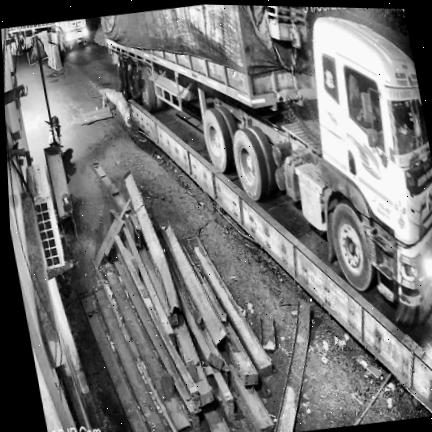tyre: (332, 201, 373, 291), (233, 129, 268, 201), (203, 109, 234, 172), (250, 126, 276, 194), (140, 65, 157, 111), (218, 106, 238, 140)
